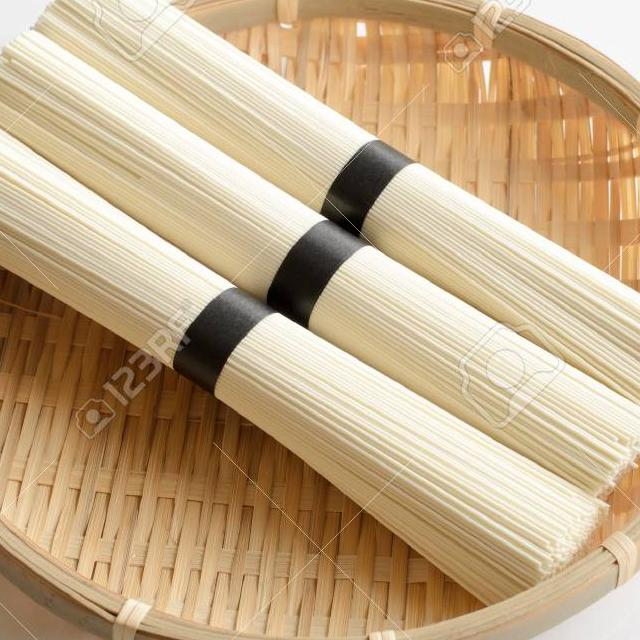noodles: (0, 101, 596, 579)
